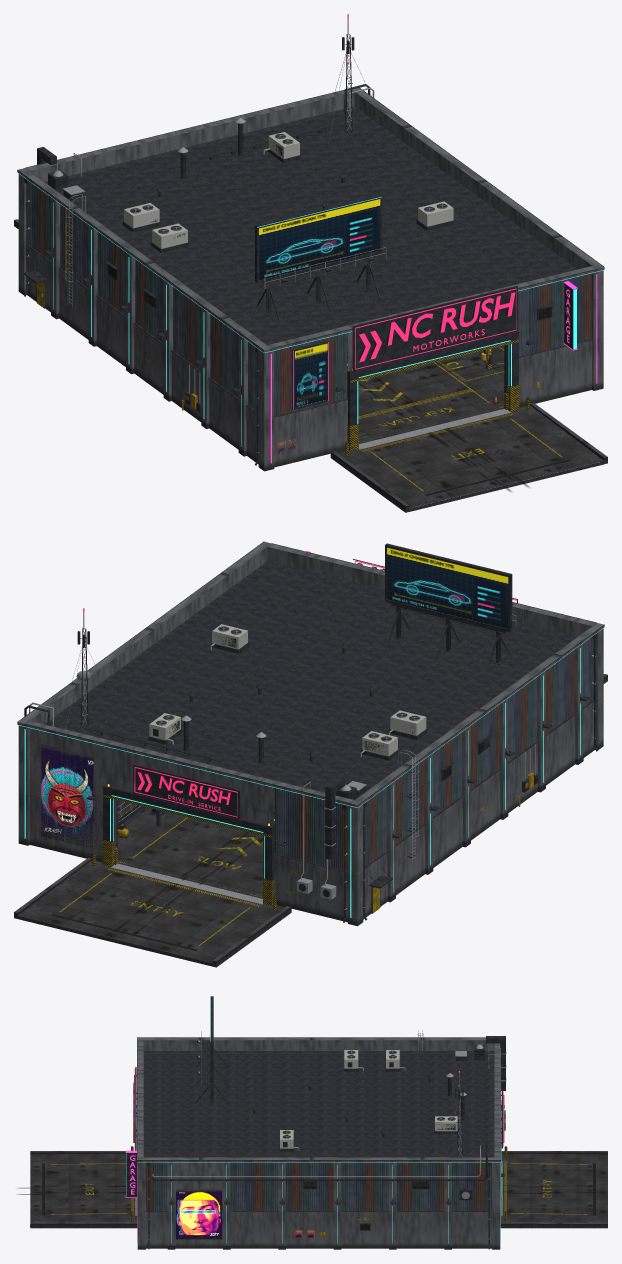
File: garage.glb
3 renders of one model, top to bottom at view 1: azimuth 30°, elevation 25°; view 2: azimuth 150°, elevation 25°; view 3: azimuth 270°, elevation 25°, orthographic. The views are drawn at different scales.
Parts seen in each view (by area): view 1: ext_shell, aprons, ext_signs, floor, ext_billboard, ext_detail, grime, floor_marks, ext_antenna; view 2: ext_shell, aprons, ext_detail, floor, ext_billboard, ext_signs, grime, ext_antenna, back_zone; view 3: ext_shell, aprons, ext_detail, ext_signs, ext_billboard, grime, ext_antenna.
Boxes of the visible parts, box(x1,y1,x2,y2) form: ext_shell: box(17, 87, 604, 471); aprons: box(14, 219, 607, 512); ext_signs: box(18, 173, 603, 463); floor: box(347, 344, 511, 449); ext_billboard: box(255, 195, 386, 323); ext_detail: box(24, 84, 553, 465); grime: box(347, 351, 529, 491); floor_marks: box(358, 346, 504, 442); ext_antenna: box(328, 14, 387, 143); ext_shell: box(17, 541, 604, 926); aprons: box(14, 674, 607, 967); ext_detail: box(24, 624, 597, 922); floor: box(111, 795, 274, 904); ext_billboard: box(385, 543, 516, 671); ext_signs: box(18, 551, 603, 917); grime: box(66, 811, 274, 935); ext_antenna: box(64, 608, 123, 729); back_zone: box(117, 800, 163, 838); ext_shell: box(136, 1037, 501, 1249); aprons: box(30, 1151, 607, 1228); ext_detail: box(131, 1030, 507, 1249); ext_signs: box(125, 1067, 504, 1243); ext_billboard: box(194, 996, 229, 1105); grime: box(17, 1171, 595, 1220); ext_antenna: box(448, 1071, 488, 1157).
Size of the model in its own units: 32.77 by 20.16 by 64.38.
Materials: 23 (15 with a texture image).
